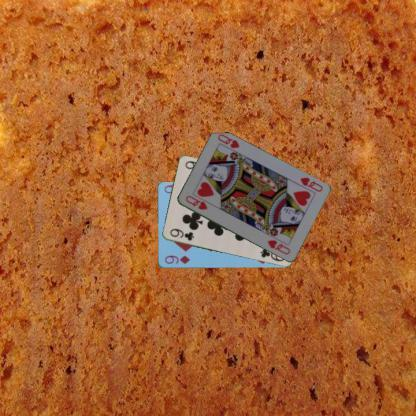9c: (166, 226, 196, 242)
9d: (162, 253, 190, 265)
Qh: (182, 192, 209, 212), (298, 174, 324, 193)
